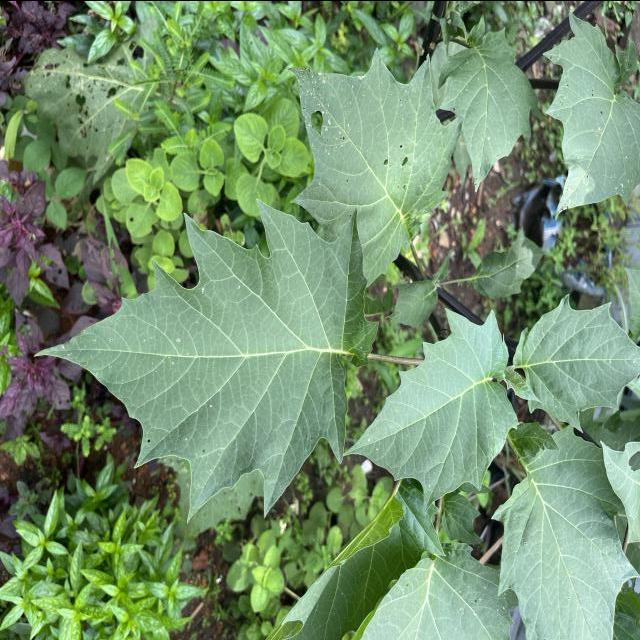Datura metal linn: (32, 194, 381, 526), (282, 44, 468, 288), (343, 302, 522, 516), (540, 7, 640, 221), (436, 24, 550, 194), (510, 290, 640, 434)
